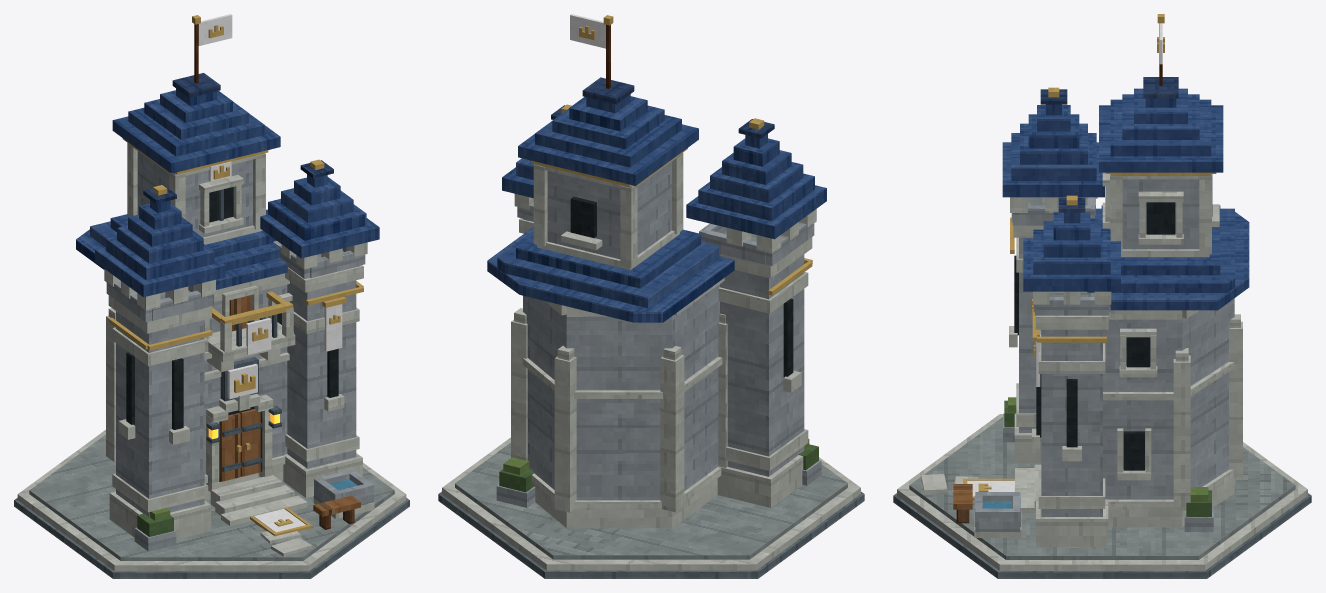
File: city_level_4_hex_v1.glb
The picture shows the model from 3 angles, left to right: view 1: azimuth 30°, elevation 25°; view 2: azimuth 150°, elevation 25°; view 3: azimuth 270°, elevation 25°; orthographic projection. The views are drawn at different scales.
Visible parts, largest first — view 1: City_Level_4_Hex_V1_Turret, City_Level_4_Hex_V1_Roofs, City_Level_4_Hex_V1_Foundation, City_Level_4_Hex_V1_Architecture, City_Level_4_Hex_V1_Keep, City_Level_4_Hex_V1_Details, City_Level_4_Hex_V1_Courtyard, City_Level_4_Hex_V1_Faction; view 2: City_Level_4_Hex_V1_Keep, City_Level_4_Hex_V1_Roofs, City_Level_4_Hex_V1_Foundation, City_Level_4_Hex_V1_Turret, City_Level_4_Hex_V1_Architecture, City_Level_4_Hex_V1_Details, City_Level_4_Hex_V1_Courtyard, City_Level_4_Hex_V1_Faction; view 3: City_Level_4_Hex_V1_Roofs, City_Level_4_Hex_V1_Keep, City_Level_4_Hex_V1_Foundation, City_Level_4_Hex_V1_Turret, City_Level_4_Hex_V1_Architecture, City_Level_4_Hex_V1_Courtyard, City_Level_4_Hex_V1_Details, City_Level_4_Hex_V1_Faction.
Part boxes in pixels (x1,y1,x2,y2): City_Level_4_Hex_V1_Turret: (104, 241, 367, 539); City_Level_4_Hex_V1_Roofs: (76, 73, 379, 297); City_Level_4_Hex_V1_Foundation: (14, 430, 409, 578); City_Level_4_Hex_V1_Architecture: (106, 143, 344, 491); City_Level_4_Hex_V1_Keep: (133, 147, 289, 500); City_Level_4_Hex_V1_Details: (108, 15, 363, 536); City_Level_4_Hex_V1_Courtyard: (134, 469, 374, 556); City_Level_4_Hex_V1_Faction: (198, 14, 342, 532); City_Level_4_Hex_V1_Keep: (522, 157, 724, 528); City_Level_4_Hex_V1_Roofs: (487, 77, 826, 322); City_Level_4_Hex_V1_Foundation: (438, 437, 864, 578); City_Level_4_Hex_V1_Turret: (514, 194, 816, 507); City_Level_4_Hex_V1_Architecture: (511, 152, 801, 512); City_Level_4_Hex_V1_Details: (499, 15, 818, 492); City_Level_4_Hex_V1_Courtyard: (496, 460, 821, 507); City_Level_4_Hex_V1_Faction: (570, 14, 605, 48); City_Level_4_Hex_V1_Roofs: (1002, 77, 1249, 310); City_Level_4_Hex_V1_Keep: (1103, 176, 1234, 527); City_Level_4_Hex_V1_Foundation: (893, 414, 1311, 578); City_Level_4_Hex_V1_Turret: (1010, 197, 1111, 546); City_Level_4_Hex_V1_Architecture: (1009, 172, 1242, 510); City_Level_4_Hex_V1_Courtyard: (921, 413, 1213, 537); City_Level_4_Hex_V1_Details: (953, 14, 1216, 523); City_Level_4_Hex_V1_Faction: (967, 23, 1162, 496).
Bounding box in the file's own units: 1.45 × 2.18 × 1.68.
Materials: 1 (1 with a texture image).
